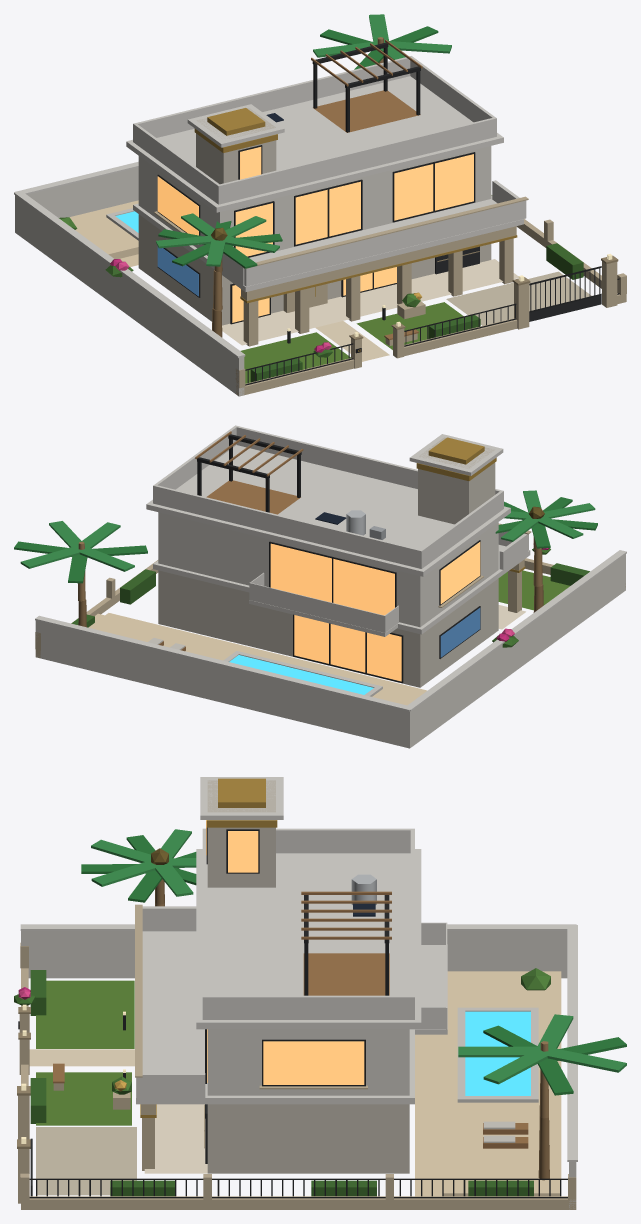
The model's file is villa-c2.glb.
3 views of the same model, one above another, from view 1: azimuth 30°, elevation 25°; view 2: azimuth 150°, elevation 25°; view 3: azimuth 270°, elevation 25° (orthographic). The views are drawn at different scales.
Size of the model in its own units: 24.53 by 10.38 by 24.28.
